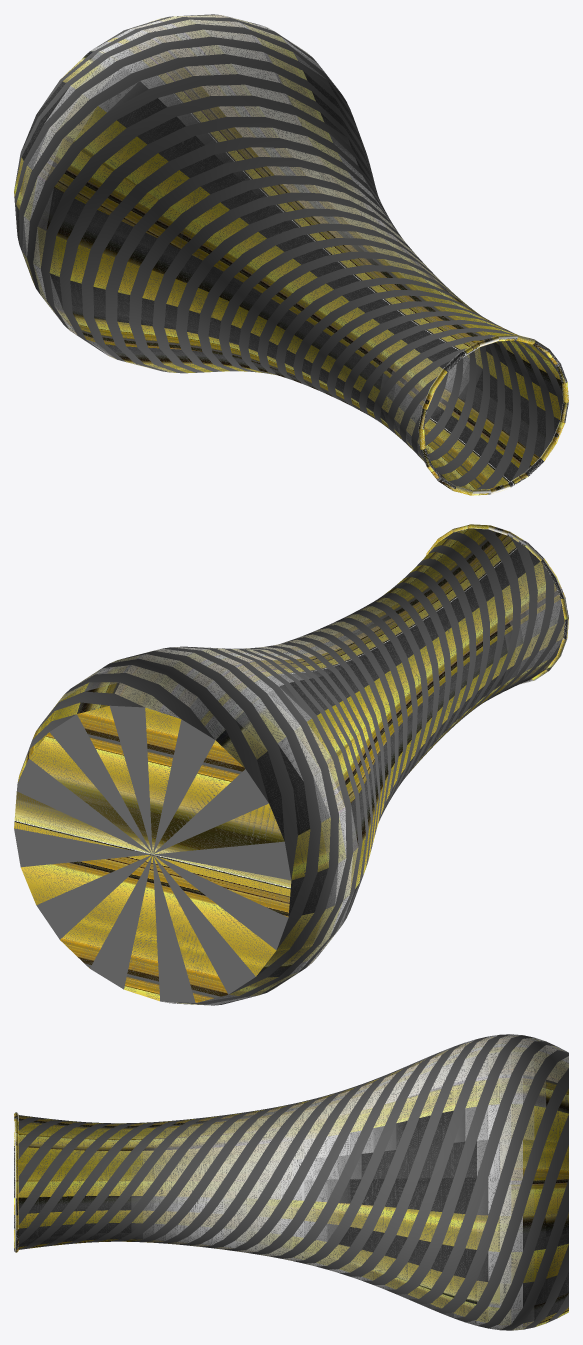
File: model_scale.obj
3 views of the same model, one above another, from view 1: azimuth 30°, elevation 25°; view 2: azimuth 150°, elevation 25°; view 3: azimuth 270°, elevation 25° (orthographic). The views are drawn at different scales.
Visible parts, largest first — view 1: mesh2_mesh2-geometry, mesh1_mesh1-geometry; view 2: mesh2_mesh2-geometry, mesh1_mesh1-geometry; view 3: mesh2_mesh2-geometry, mesh1_mesh1-geometry.
Boxes of the visible parts, bbox=[...] form: mesh2_mesh2-geometry: bbox=[14, 14, 563, 489]; mesh1_mesh1-geometry: bbox=[418, 334, 568, 495]; mesh2_mesh2-geometry: bbox=[14, 528, 564, 1005]; mesh1_mesh1-geometry: bbox=[425, 524, 568, 684]; mesh2_mesh2-geometry: bbox=[18, 1034, 568, 1330]; mesh1_mesh1-geometry: bbox=[14, 1112, 18, 1252].
Bounding box in the file's own units: 0.1303 × 0.1303 × 0.2442.
Materials: 3 (1 with a texture image).
